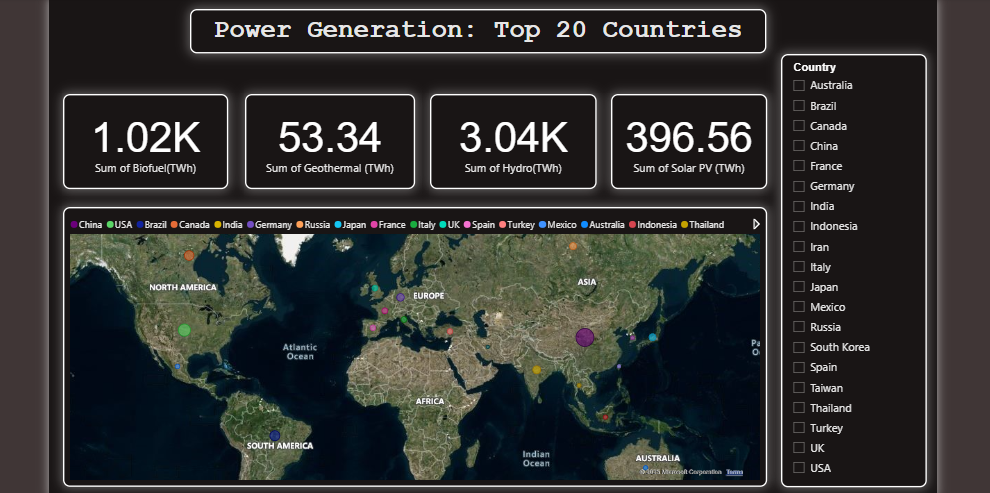

Layout of this report page (visuals, bound fields, positions):
{"tool":"powerbi","page":{"name":"Top 20 Countries","canvas":[1280,720],"ordinal":2},"visuals":[{"type":"textbox","box":[202.7,15.6,829.7,64.1],"z":0},{"type":"map","fields":{"Category":["top20CountriesPowerGeneration.Country"],"Series":["top20CountriesPowerGeneration.Country"],"Size":["Sum(top20CountriesPowerGeneration.Total (TWh))"]},"box":[20.2,301,1013.8,403.2],"z":1000},{"type":"slicer","fields":{"Values":["top20CountriesPowerGeneration.Country"]},"box":[1054.1,80.6,210.2,623.5],"z":2000},{"type":"card","fields":{"Values":["Sum(top20CountriesPowerGeneration.Biofuel(TWh))"]},"box":[20.2,138.2,237.6,136.8],"z":3000},{"type":"card","fields":{"Values":["Sum(top20CountriesPowerGeneration.Geothermal (TWh))"]},"box":[282.2,138.2,244.8,136.8],"z":4000},{"type":"card","fields":{"Values":["Sum(top20CountriesPowerGeneration.Solar PV (TWh))"]},"box":[809.3,138.2,224.6,136.8],"z":5000},{"type":"card","fields":{"Values":["Sum(top20CountriesPowerGeneration.Hydro(TWh))"]},"box":[548.6,138.2,240.5,136.8],"z":6000}]}

Visuals, with their boxes in screenshot pixels (x1, y1, x2, y2):
textbox: <region>183, 3, 763, 48</region>
map - top20CountriesPowerGeneration.Country x top20CountriesPowerGeneration.Country: <region>55, 203, 764, 485</region>
slicer - top20CountriesPowerGeneration.Country: <region>778, 49, 925, 485</region>
card - Sum(top20CountriesPowerGeneration.Biofuel(TWh)): <region>55, 89, 222, 185</region>
card - Sum(top20CountriesPowerGeneration.Geothermal (TWh)): <region>239, 89, 410, 185</region>
card - Sum(top20CountriesPowerGeneration.Solar PV (TWh)): <region>607, 89, 764, 185</region>
card - Sum(top20CountriesPowerGeneration.Hydro(TWh)): <region>425, 89, 593, 185</region>
